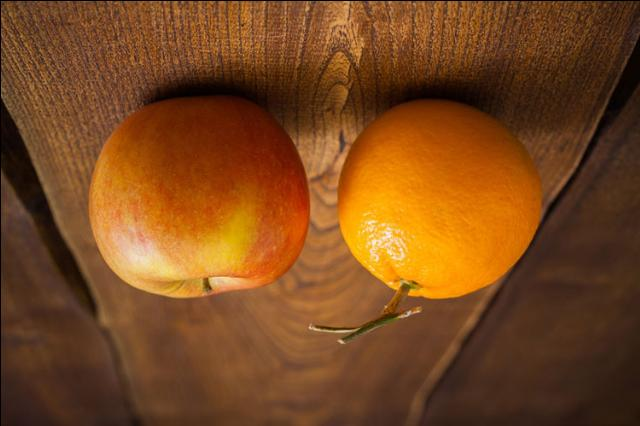Apples: (86, 93, 310, 297)
Oranges: (340, 98, 542, 298)
